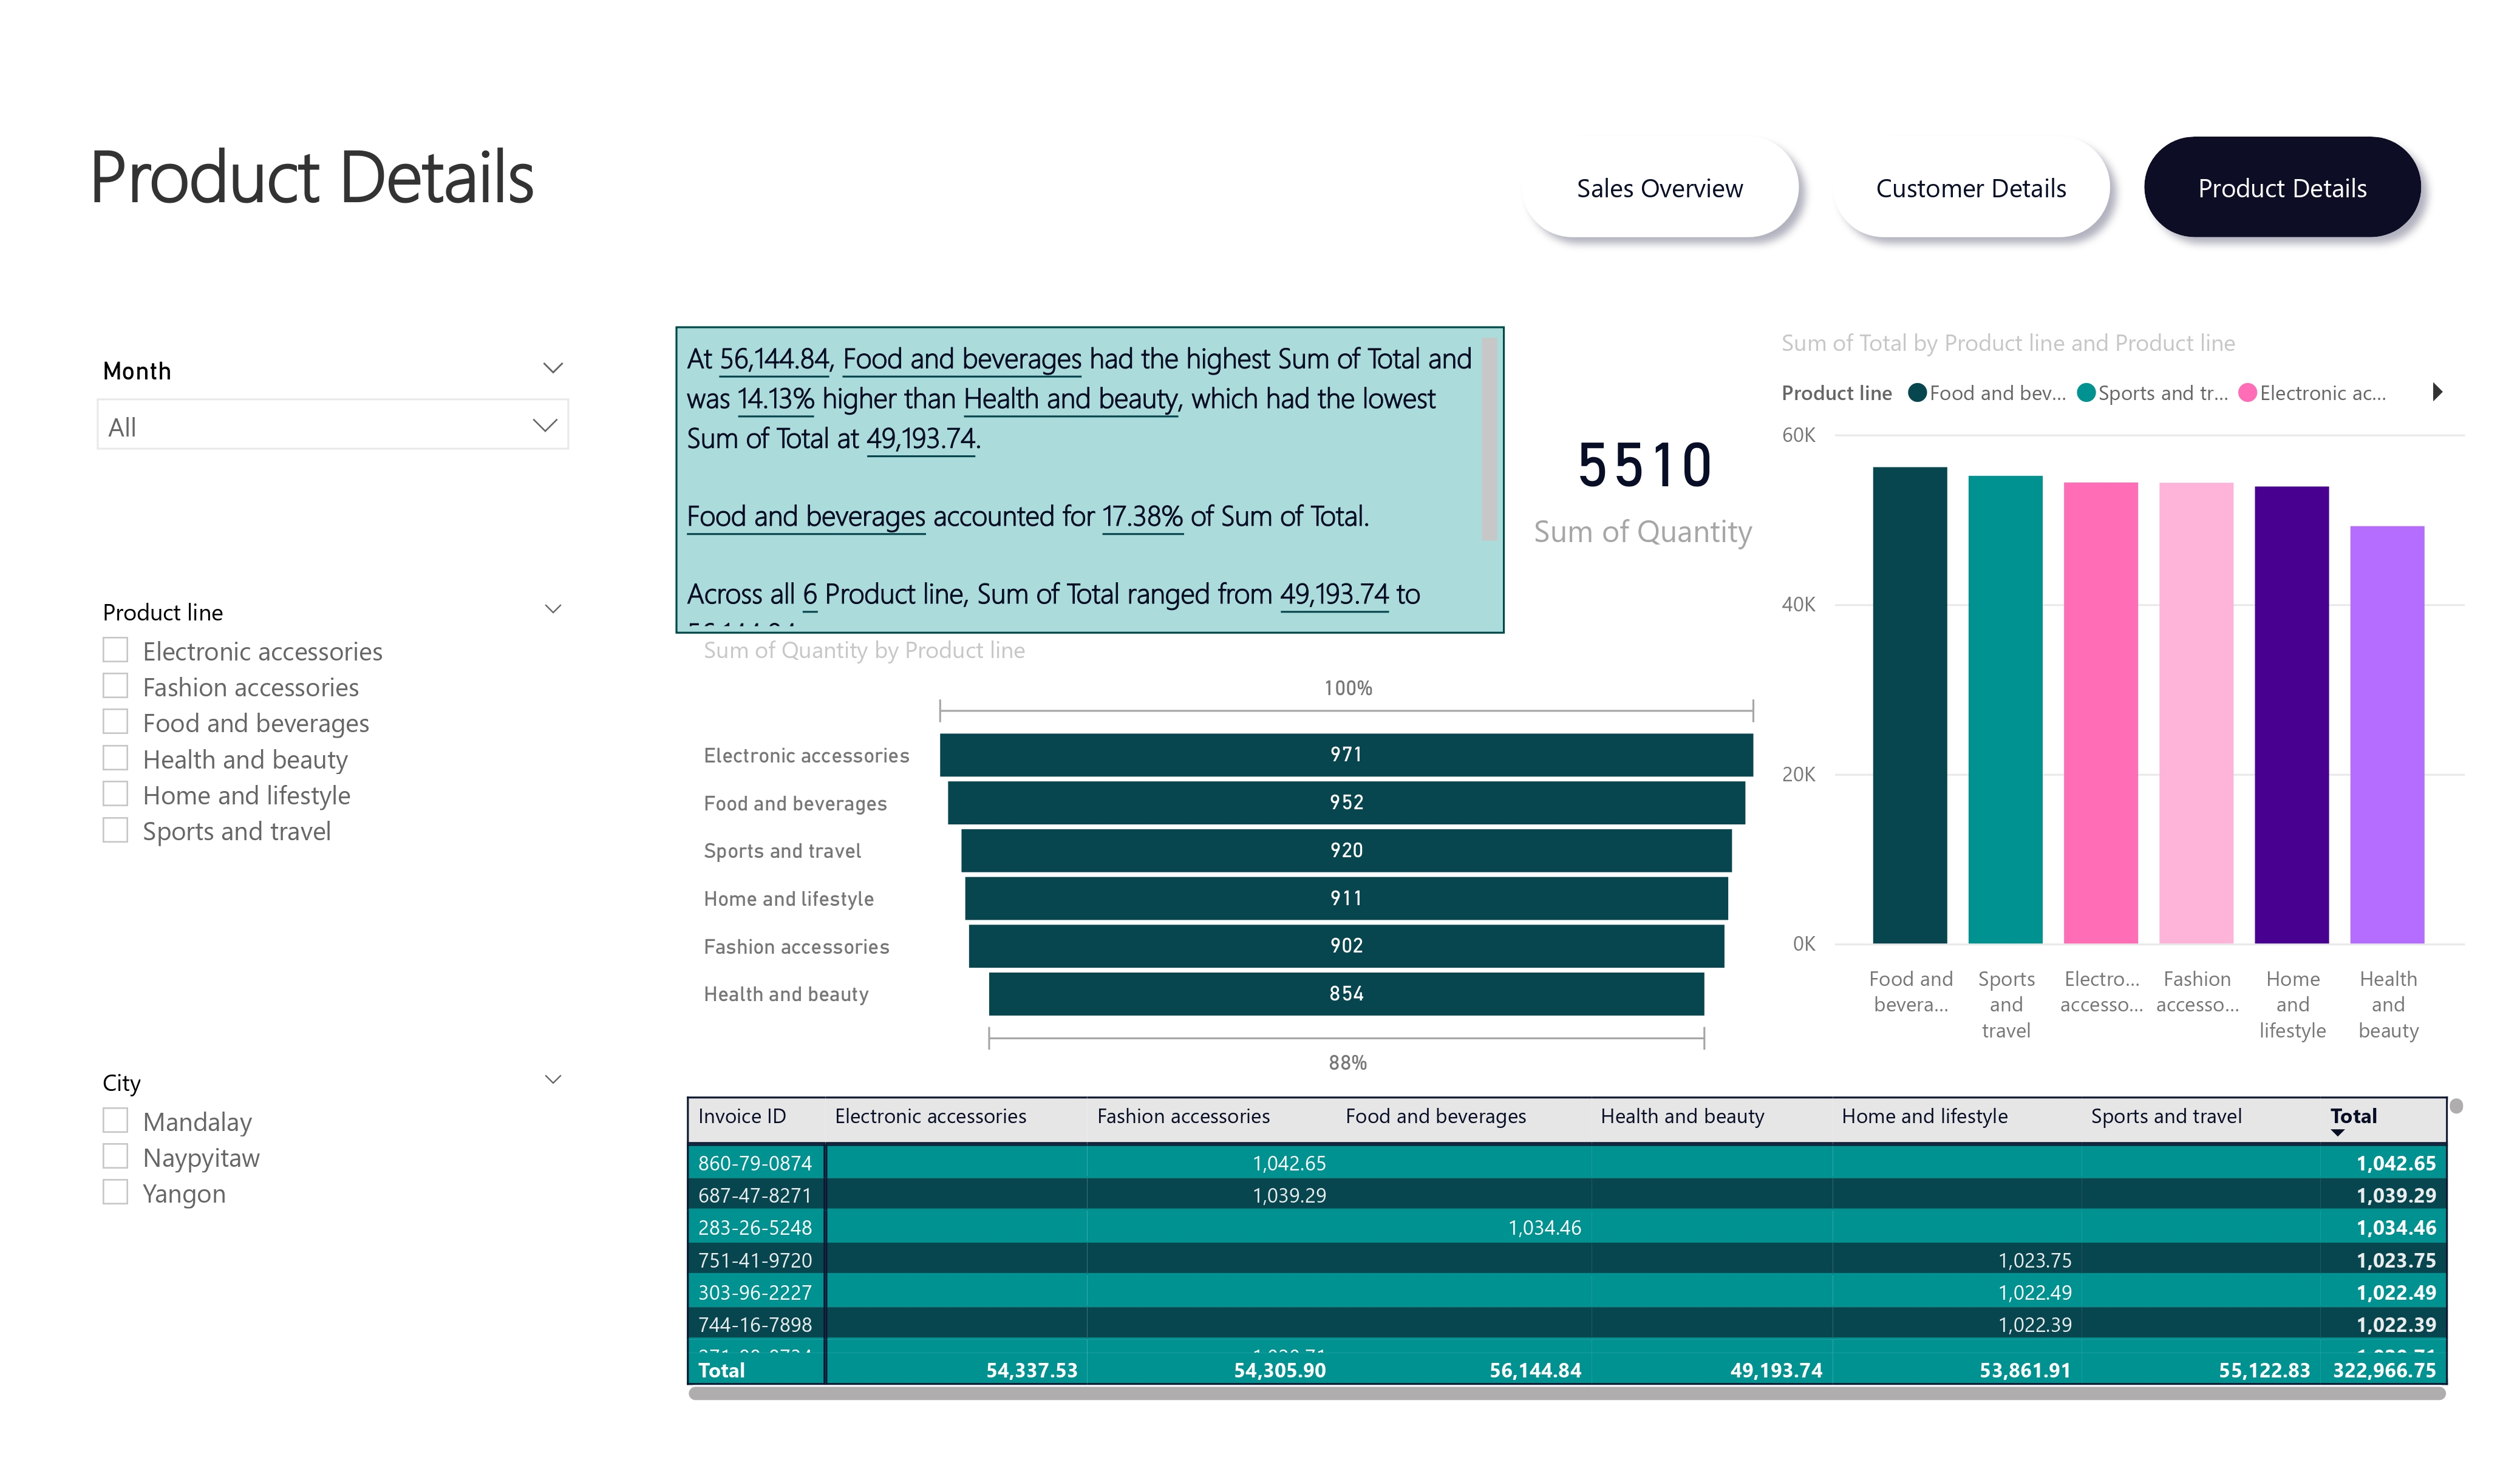

What the dashboard file says about the page in this screenshot:
{"tool":"powerbi","page":{"name":"Product Details","canvas":[1280,720],"ordinal":2},"visuals":[{"type":"textbox","box":[18.3,36.7,323.3,70],"z":0},{"type":"pageNavigator","box":[768.6,38.6,492.9,71.4],"z":1000},{"type":"columnChart","fields":{"Category":["supermarket_sales - Sheet1 (2).Product line"],"Y":["Sum(supermarket_sales - Sheet1 (2).Total)"],"Series":["supermarket_sales - Sheet1 (2).Product line"]},"box":[910,148.3,370,385],"z":2000},{"type":"card","fields":{"Values":["Sum(supermarket_sales - Sheet1.Quantity)"]},"box":[772.6,147.9,138.1,162.6],"z":3000},{"type":"slicer","fields":{"Values":["supermarket_sales - Sheet1 (2).Date.Variation.Date Hierarchy.Month"]},"box":[17.1,158.6,268.6,64.3],"z":4000},{"type":"slicer","fields":{"Values":["supermarket_sales - Sheet1 (2).Product line"]},"box":[16.7,285,268.3,240],"z":5000},{"type":"slicer","fields":{"Values":["supermarket_sales - Sheet1 (2).City"]},"box":[16.7,533.3,268.3,171.7],"z":6000},{"type":"funnel","fields":{"Category":["supermarket_sales - Sheet1 (2).Product line"],"Y":["Sum(supermarket_sales - Sheet1.Quantity)"]},"box":[341.7,310,568.3,238.3],"z":7000},{"type":"textbox","box":[332.5,147.9,436.4,162.6],"z":8000},{"type":"pivotTable","fields":{"Rows":["supermarket_sales - Sheet1 (2).Invoice ID"],"Values":["Sum(supermarket_sales - Sheet1 (2).Total)"],"Columns":["supermarket_sales - Sheet1 (2).Product line"]},"box":[332.5,548.8,947.5,171.2],"z":9000}]}

Visuals, with their boxes in screenshot pixels (x1, y1, x2, y2):
textbox: [left=80, top=115, right=693, bottom=248]
pageNavigator: [left=1504, top=119, right=2439, bottom=254]
columnChart - supermarket_sales - Sheet1 (2).Product line x Sum(supermarket_sales - Sheet1 (2).Total): [left=1773, top=327, right=2474, bottom=1058]
card - Sum(supermarket_sales - Sheet1.Quantity): [left=1511, top=326, right=1774, bottom=634]
slicer - supermarket_sales - Sheet1 (2).Date.Variation.Date Hierarchy.Month: [left=78, top=347, right=588, bottom=469]
slicer - supermarket_sales - Sheet1 (2).Product line: [left=77, top=586, right=587, bottom=1042]
slicer - supermarket_sales - Sheet1 (2).City: [left=77, top=1058, right=587, bottom=1383]
funnel - supermarket_sales - Sheet1 (2).Product line x Sum(supermarket_sales - Sheet1.Quantity): [left=694, top=634, right=1773, bottom=1085]
textbox: [left=676, top=326, right=1505, bottom=634]
pivotTable - supermarket_sales - Sheet1 (2).Invoice ID x Sum(supermarket_sales - Sheet1 (2).Total): [left=676, top=1087, right=2474, bottom=1411]
